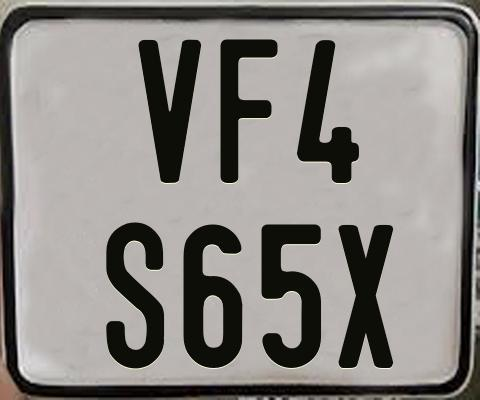4: (297, 37, 365, 180)
5: (261, 222, 325, 372)
6: (183, 221, 249, 367)
F: (220, 39, 279, 184)
S: (105, 221, 169, 372)
V: (135, 39, 199, 182)
X: (335, 224, 393, 369)
